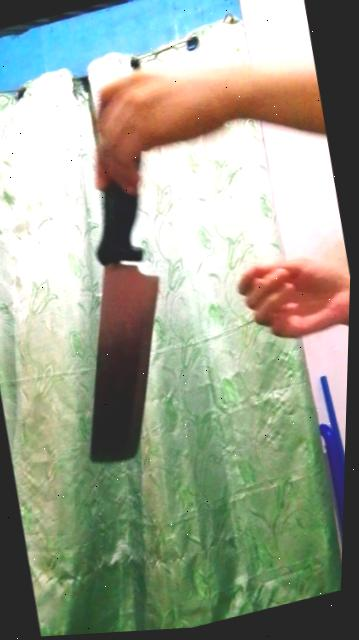long knife: (21, 105, 215, 481)
